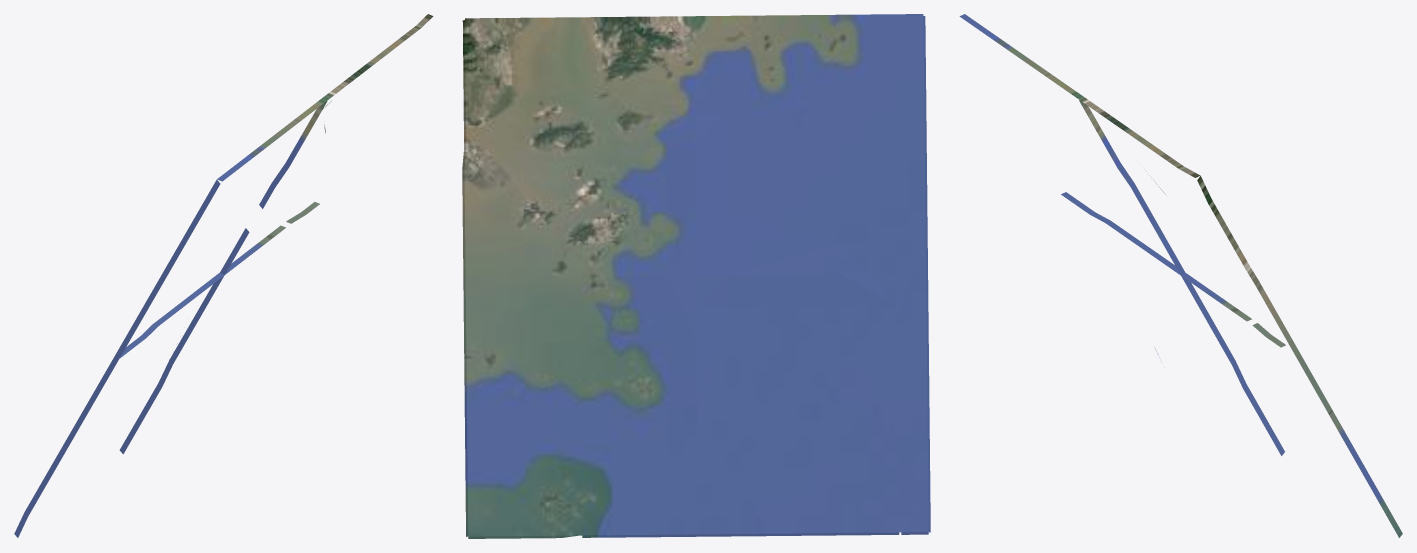
The picture shows the model from 3 angles, left to right: view 1: azimuth 30°, elevation 25°; view 2: azimuth 150°, elevation 25°; view 3: azimuth 270°, elevation 25°; orthographic projection. The views are drawn at different scales.
Bounding box in the file's own units: 78662 × 70264 × 68258.
Materials: 1 (1 with a texture image).
